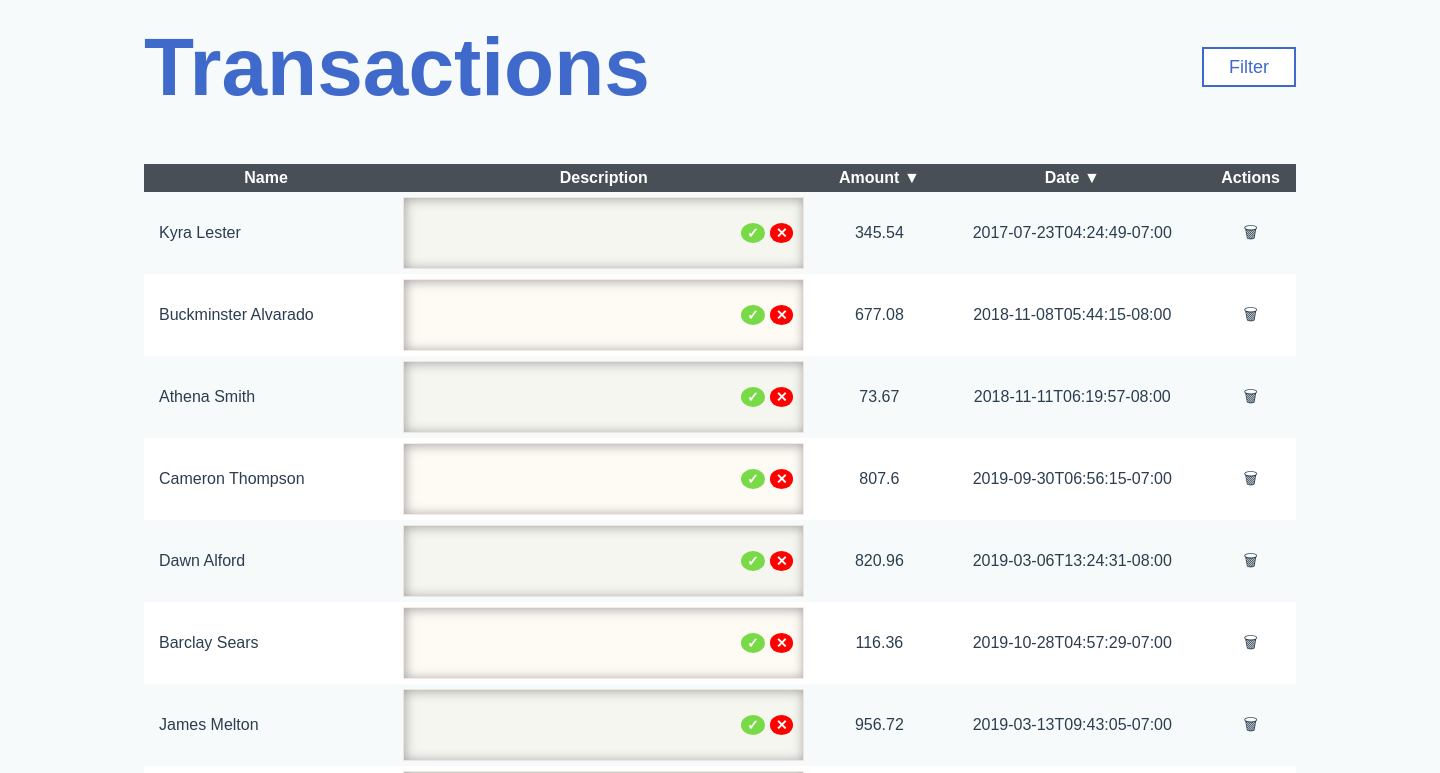
Test: App.vue › should display the content of the filter modal when the filter button is clicked
This screenshot has width=1440, height=773.
Step 1. Click the button "Filter" → (1249, 67), box [1202, 47, 1296, 87]
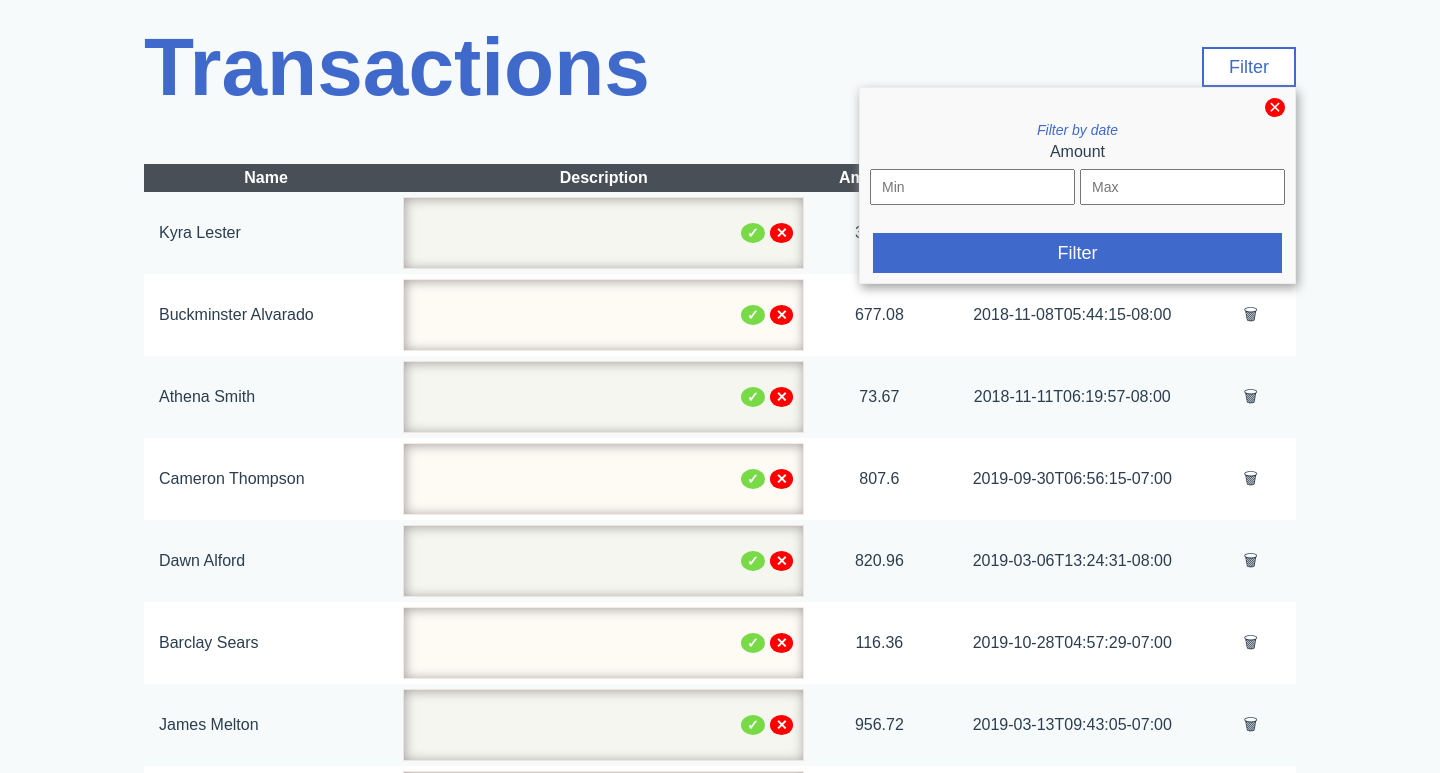
Expected: the element with class "filter-content" is shown, [860, 117, 1295, 213]
